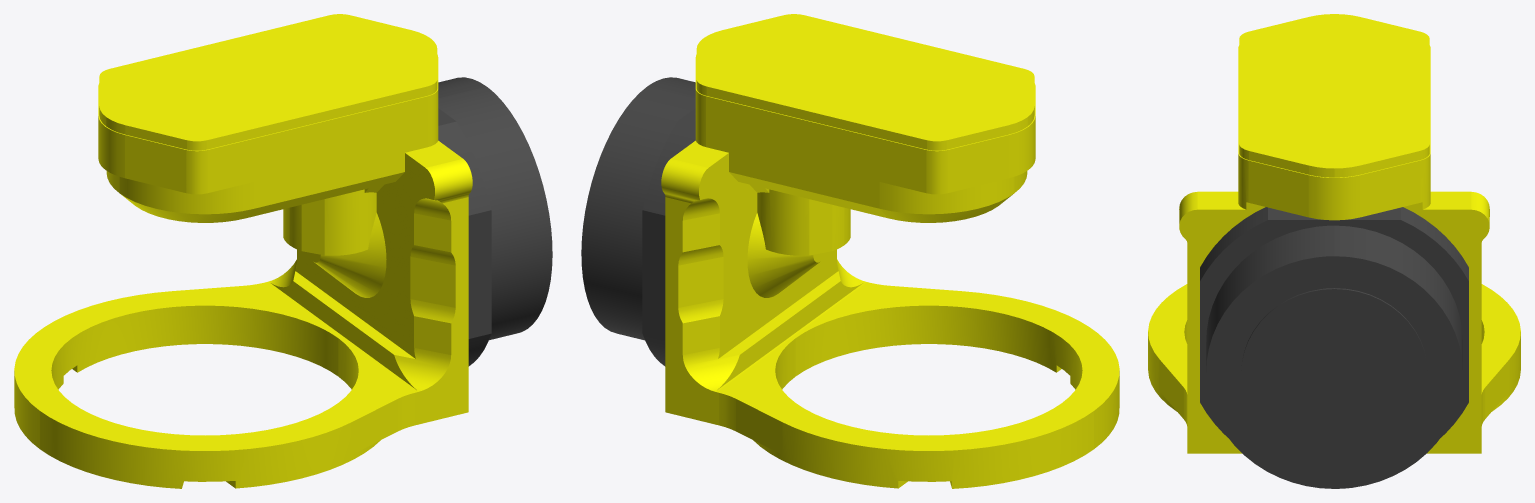
3 views of the same model, side by side, from view 1: azimuth 30°, elevation 25°; view 2: azimuth 150°, elevation 25°; view 3: azimuth 270°, elevation 25° (orthographic). The views are drawn at different scales.
Parts seen in each view (by area): view 1: Mesh_0; view 2: Mesh_0; view 3: Mesh_0.
Part boxes in pixels (box(x1,y1,x2,y2)): Mesh_0: box(14, 14, 552, 488); Mesh_0: box(581, 14, 1119, 488); Mesh_0: box(1148, 14, 1520, 488).
Size of the model in its own units: 0.2445 by 0.1644 by 0.18.
